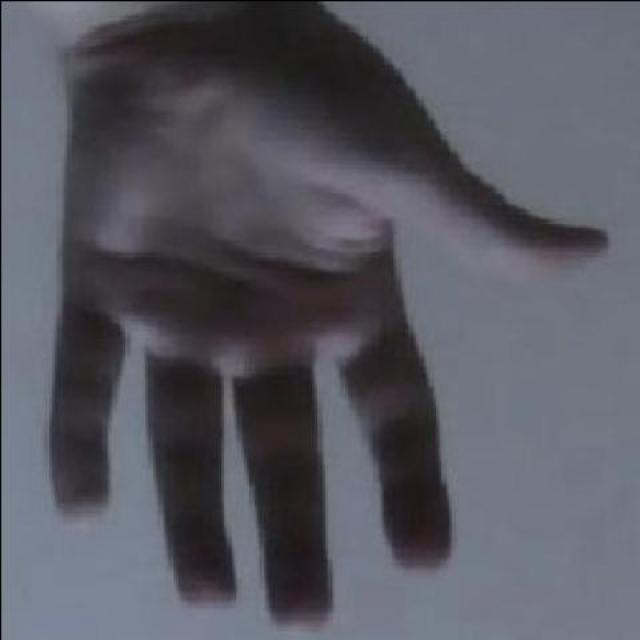Open Hand: (14, 0, 605, 635)
